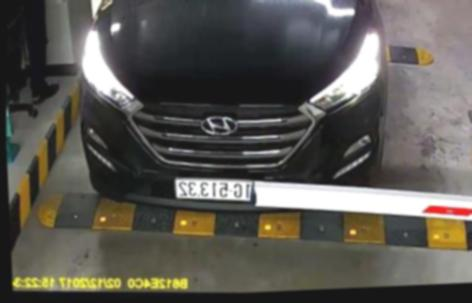License_Plate: (169, 174, 260, 205)
